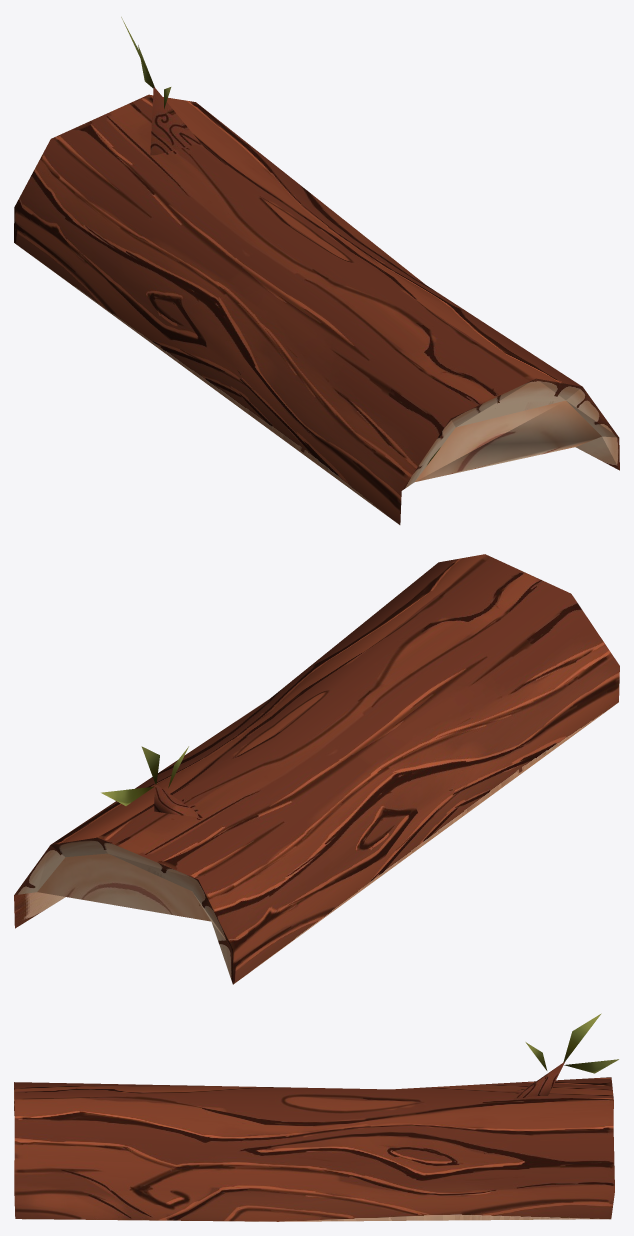
The model's file is log2_LOD2.fbx.
3 renders of one model, top to bottom at view 1: azimuth 30°, elevation 25°; view 2: azimuth 150°, elevation 25°; view 3: azimuth 270°, elevation 25°, orthographic. The views are drawn at different scales.
Visible parts, largest first — view 1: SM_Buche; view 2: SM_Buche; view 3: SM_Buche.
Part boxes in pixels (<box>): SM_Buche: <box>14,17,619,524</box>; SM_Buche: <box>14,554,619,984</box>; SM_Buche: <box>14,1013,618,1221</box>.
Size of the model in its own units: 21.75 by 20.12 by 67.3.
Materials: 1 (1 with a texture image).
